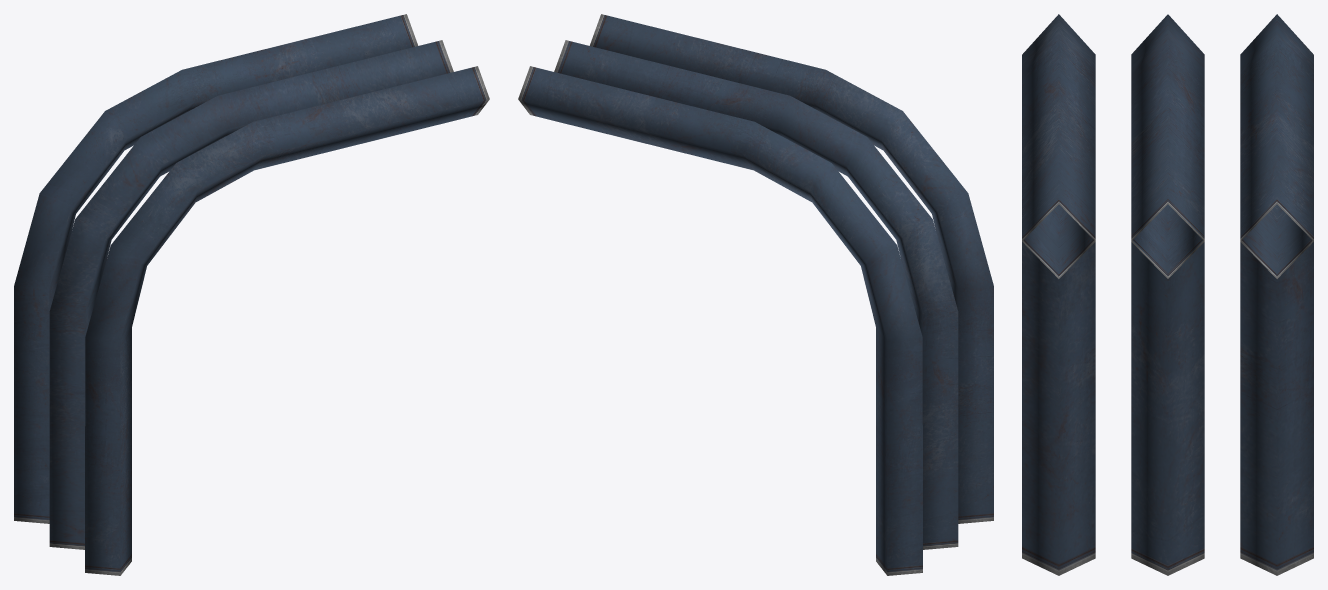
File: Pipe3_Courner4_L2.fbx
3 renders of one model, left to right at view 1: azimuth 30°, elevation 25°; view 2: azimuth 150°, elevation 25°; view 3: azimuth 270°, elevation 25°, orthographic. The views are drawn at different scales.
Parts seen in each view (by area): view 1: PIpe3_Courner4_L2; view 2: PIpe3_Courner4_L2; view 3: PIpe3_Courner4_L2.
Boxes of the visible parts, x1,y1,x2,y2 form: PIpe3_Courner4_L2: (14,14,489,575); PIpe3_Courner4_L2: (518,14,993,575); PIpe3_Courner4_L2: (1022,14,1313,575).
Bounding box in the file's own units: 106 × 106 × 44.56.
